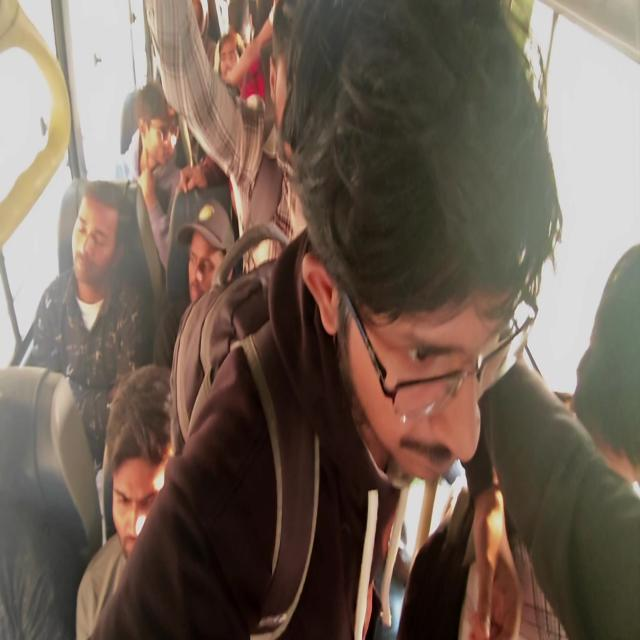person: (308, 28, 513, 462), (0, 379, 68, 589), (582, 274, 638, 480), (110, 411, 172, 568), (270, 29, 316, 169), (72, 190, 134, 286), (127, 91, 195, 178), (181, 206, 238, 302), (212, 30, 239, 79), (226, 2, 255, 38), (175, 0, 209, 30)
